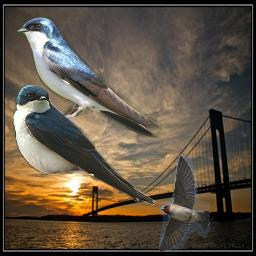Swallow: (16, 17, 162, 138), (13, 84, 155, 206), (159, 155, 210, 252)
